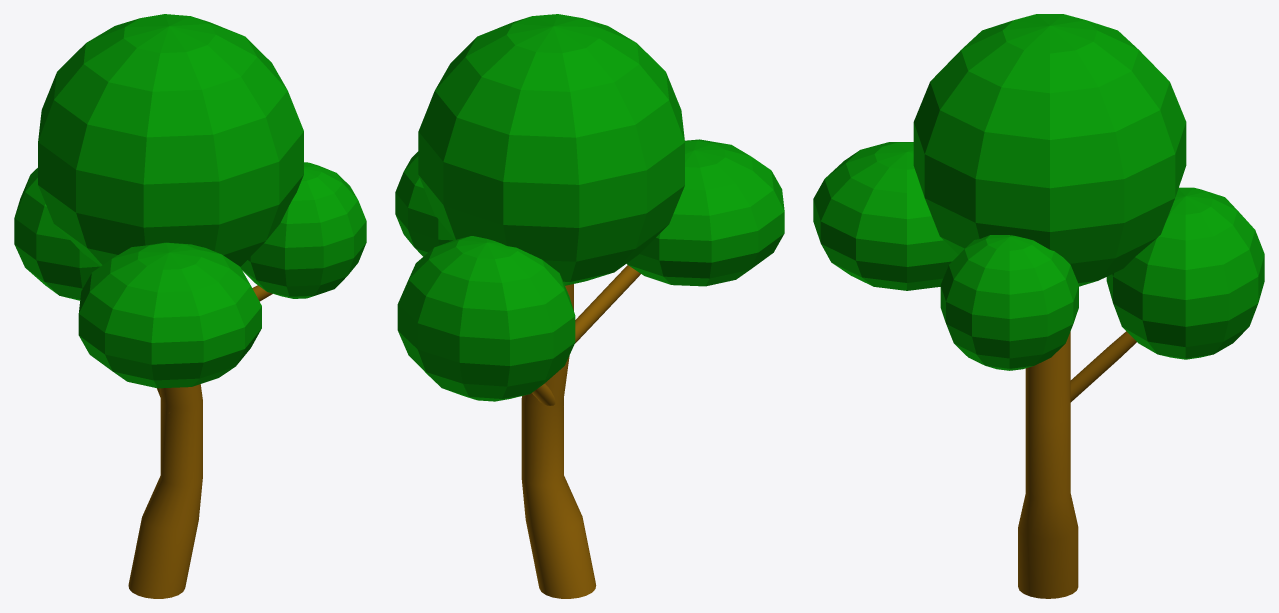
Rendered from Arbre 3.fbx.
The picture shows the model from 3 angles, left to right: view 1: azimuth 30°, elevation 25°; view 2: azimuth 150°, elevation 25°; view 3: azimuth 270°, elevation 25°; orthographic projection.
Visible parts, largest first — view 1: pCylinder5; view 2: pCylinder5; view 3: pCylinder5.
Boxes of the visible parts, <box> form: pCylinder5: <box>14,14,366,598</box>; pCylinder5: <box>395,14,784,598</box>; pCylinder5: <box>813,14,1264,598</box>.
Size of the model in its own units: 2.55 by 4.3 by 3.1.
